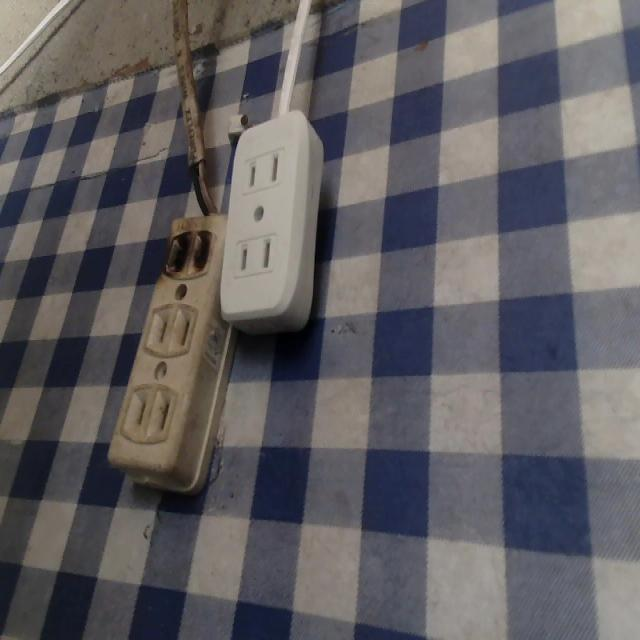-: (152, 222, 218, 278)
